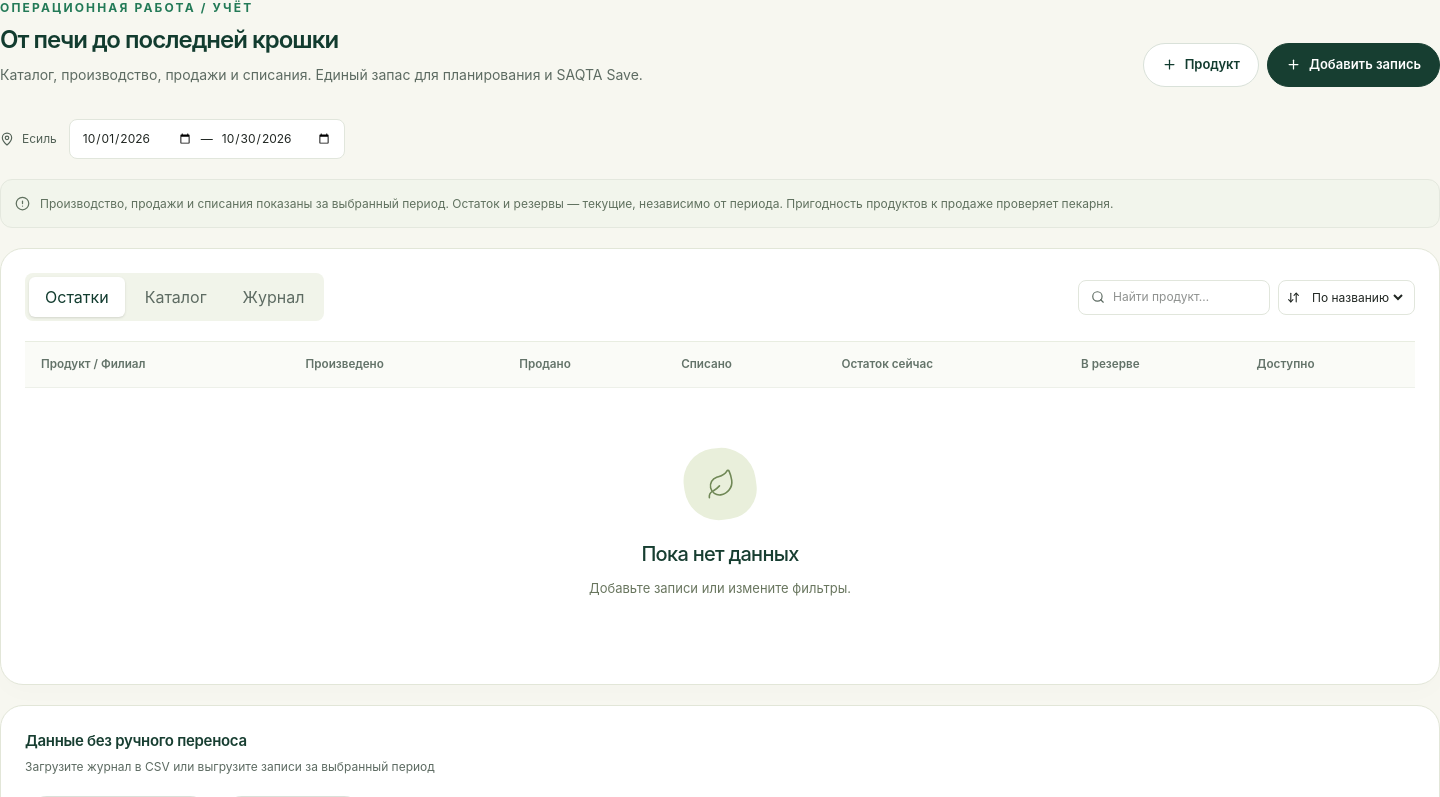
Test: inventory record forms use the API fields for the selected record kind › saves an unchanged sales record with disabled product and location selectors
Click the tab "Журнал".
click(274, 297)  # box [227,277,320,317]
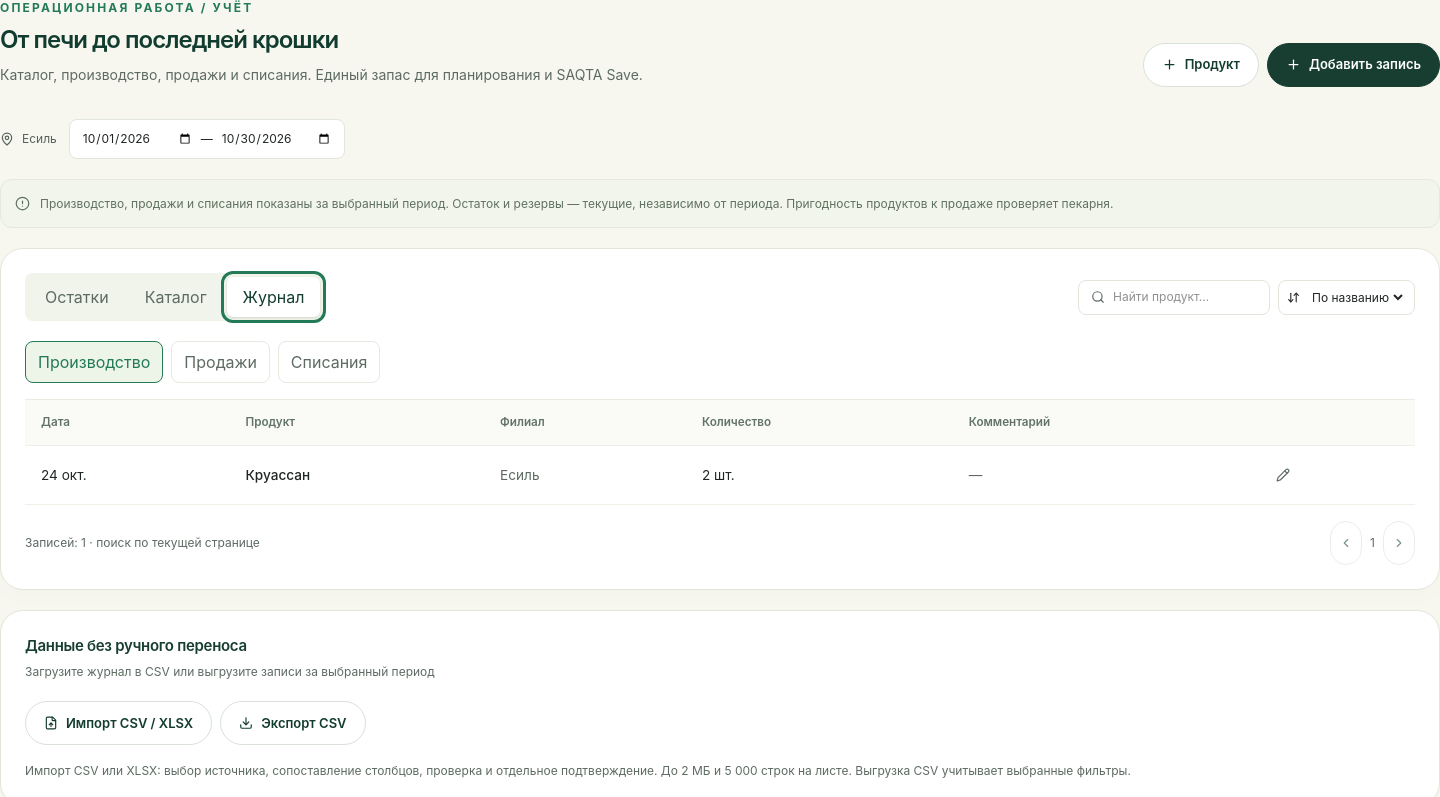
Click the button "Продажи".
click(221, 362)  # box [171,341,270,383]
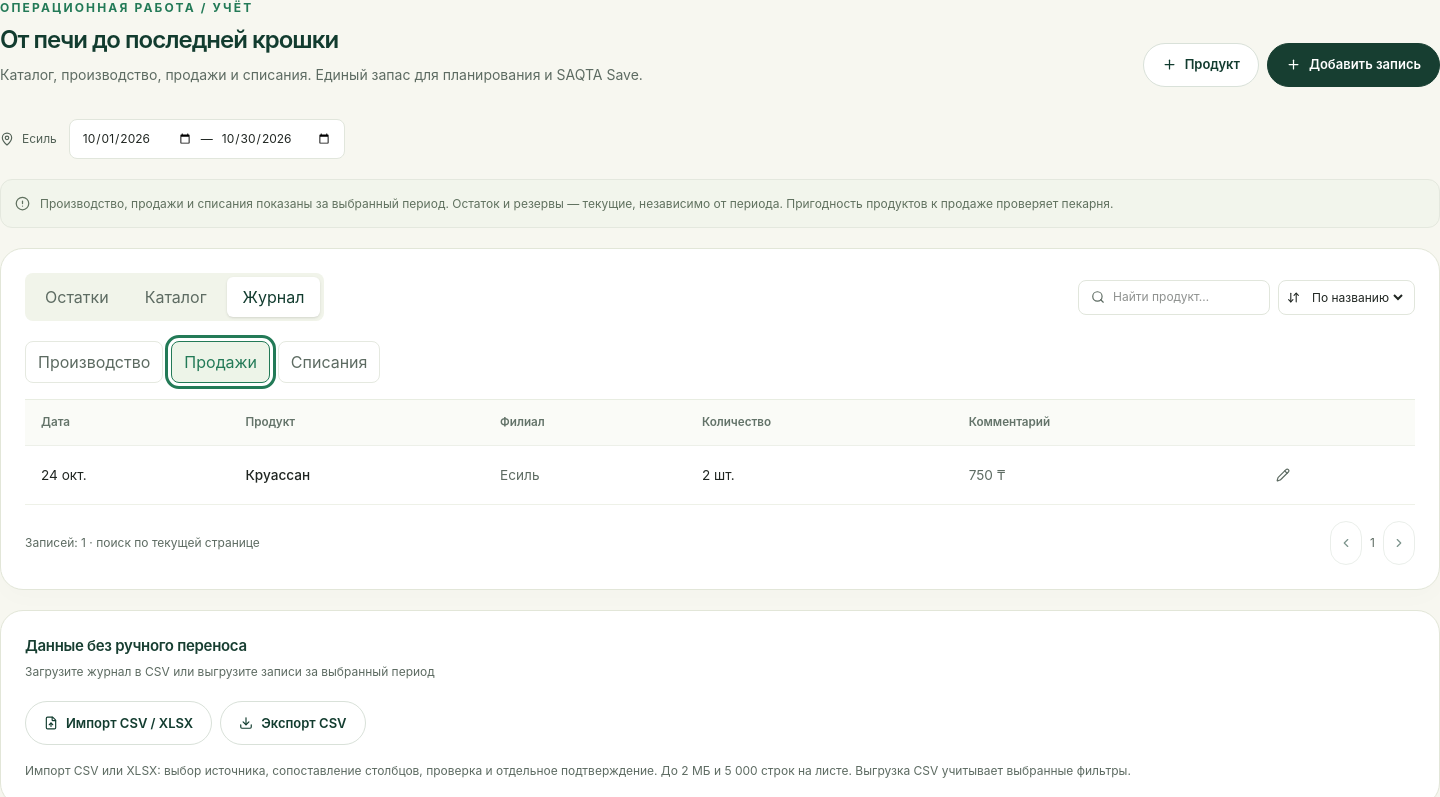
Click the button named "Редактировать запись 420".
click(1283, 475)  # box [1268,460,1298,490]
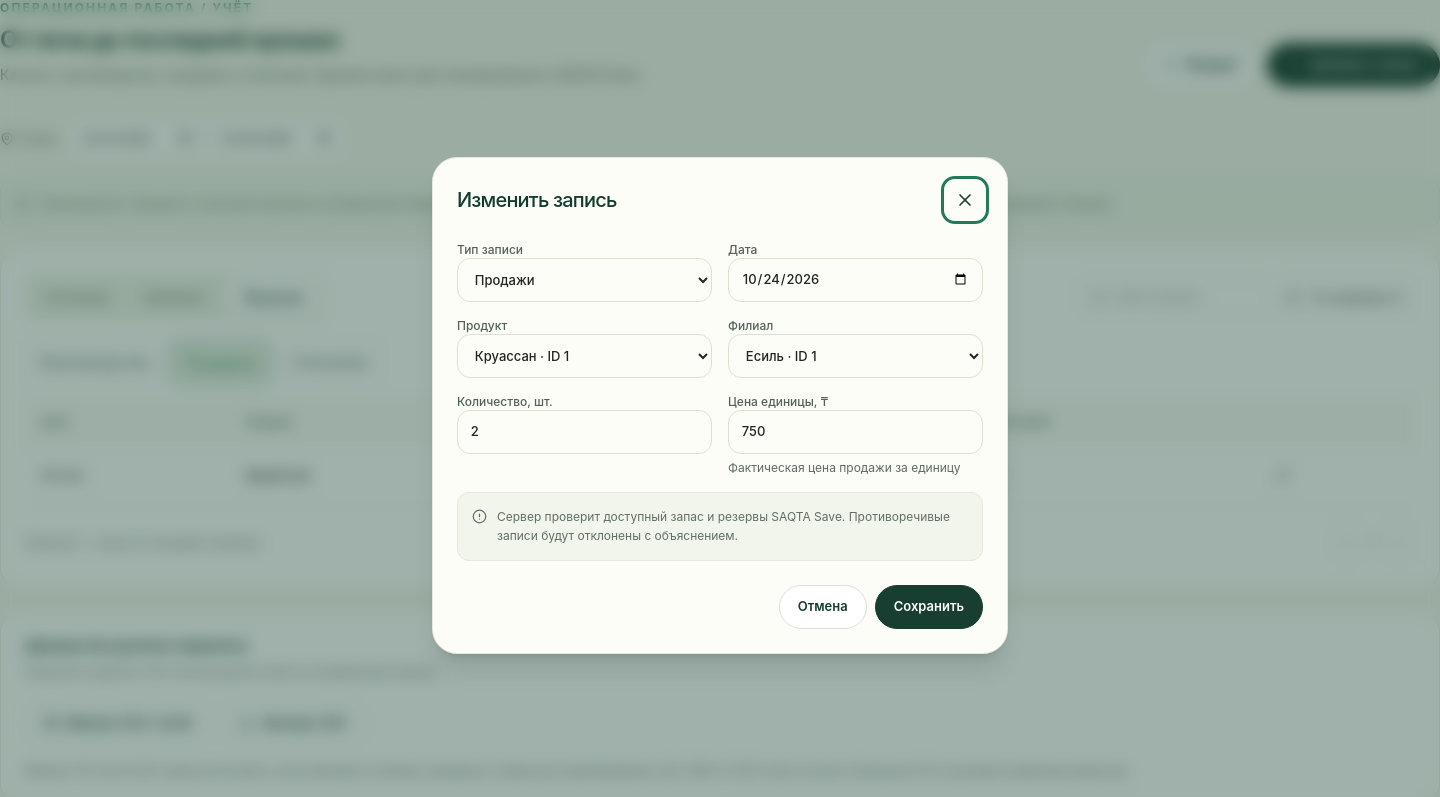
Result: the dropdown labelled "Продукт" is disabled at [457,334,712,378]
Result: the dropdown labelled "Филиал" is disabled at [728,334,983,378]
Click the button "Сохранить".
click(929, 606)  # box [875,584,983,628]
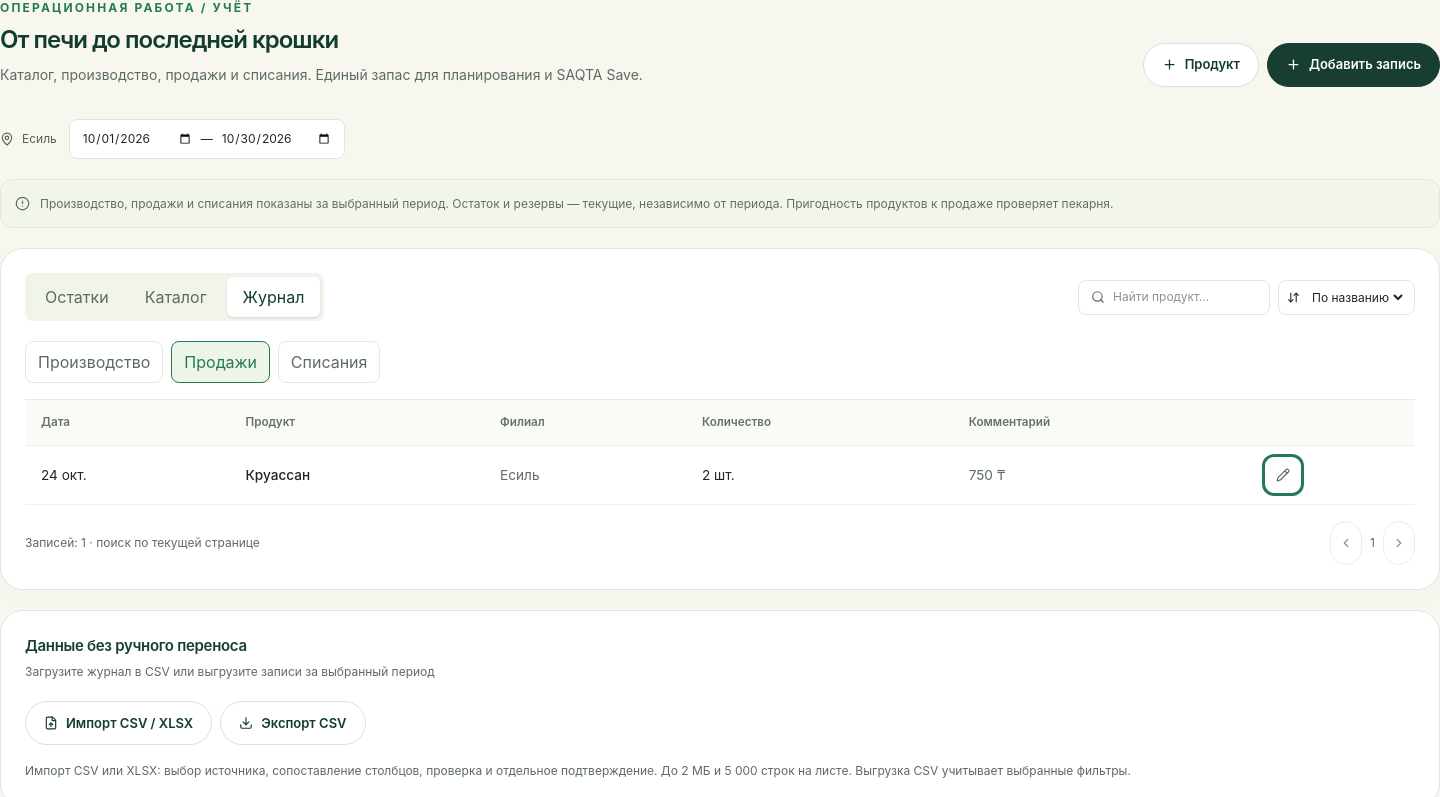
Result: the dialog is gone
